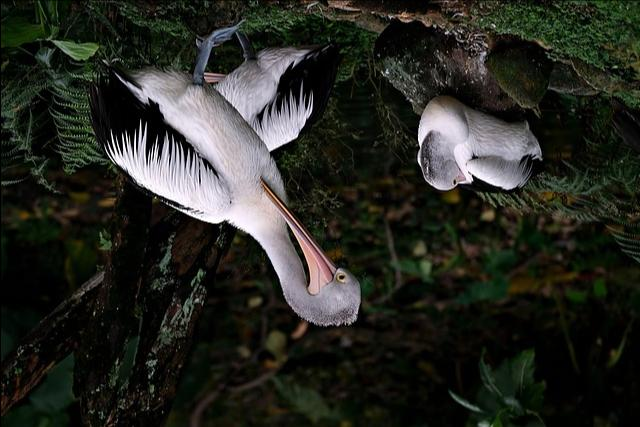Non_Gorille: (62, 53, 560, 374)
